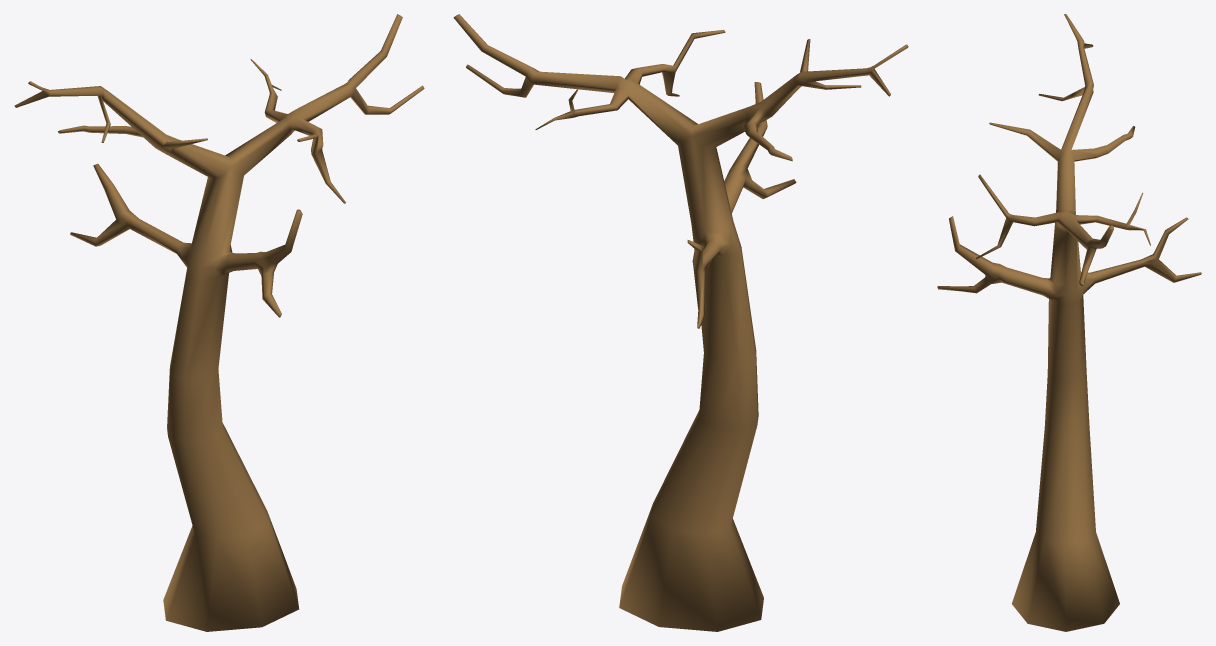
3 renders of one model, left to right at view 1: azimuth 30°, elevation 25°; view 2: azimuth 150°, elevation 25°; view 3: azimuth 270°, elevation 25°, orthographic. The views are drawn at different scales.
Visible parts, largest first — view 1: Cube.017; view 2: Cube.017; view 3: Cube.017.
Part boxes in pixels (<box>): Cube.017: <box>14,14,424,631</box>; Cube.017: <box>453,14,908,631</box>; Cube.017: <box>937,14,1201,631</box>.
Size of the model in its own units: 174 by 236 by 112.
